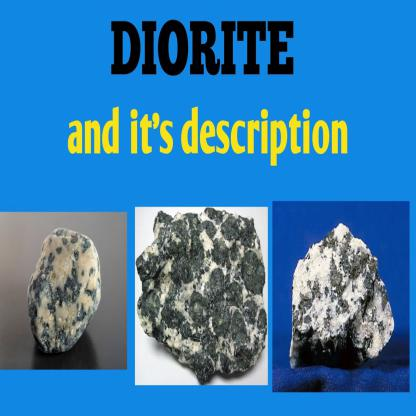Igneous_Diorite: (137, 210, 271, 380), (286, 222, 399, 382), (23, 219, 107, 356)
